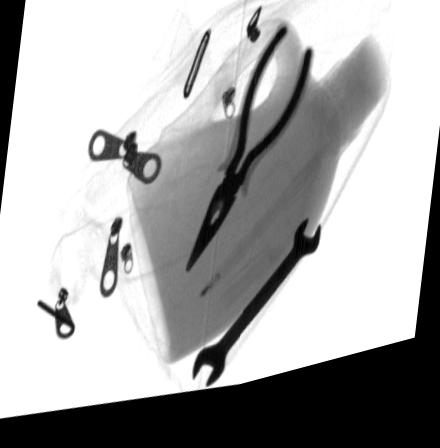Pliers: (183, 41, 314, 283)
Wrench: (192, 232, 321, 396)
